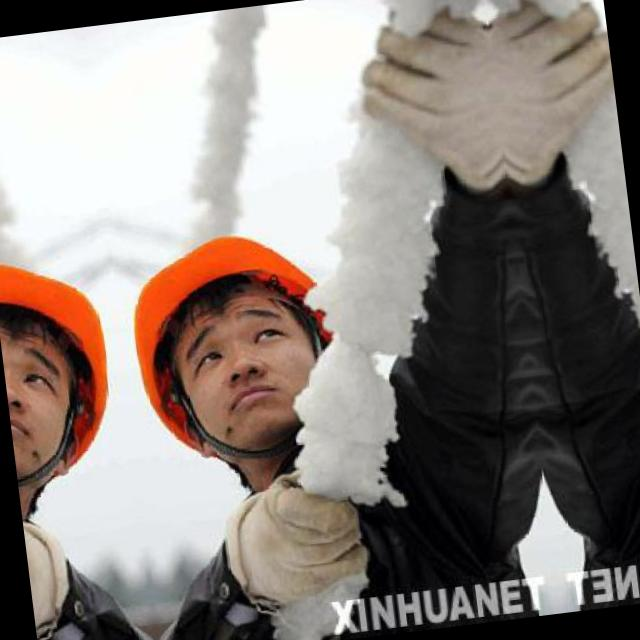helmet: (103, 195, 400, 496), (0, 226, 138, 510)
